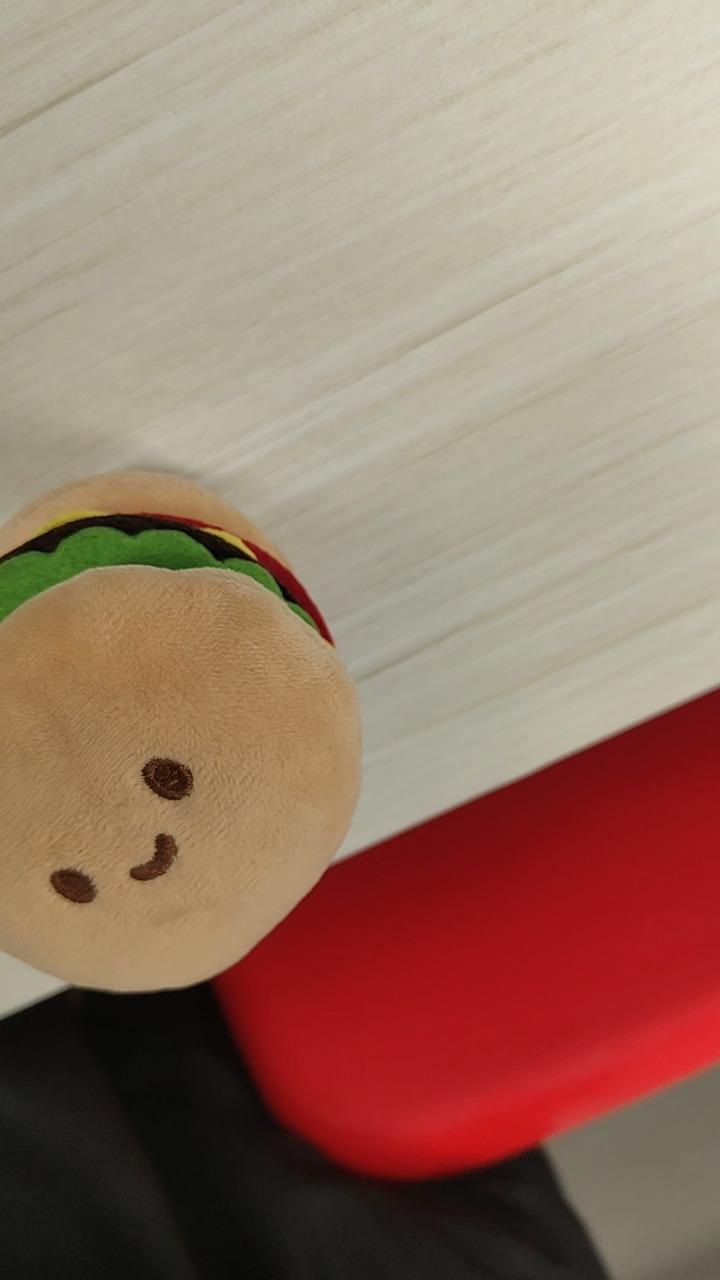hamburger: (0, 467, 363, 1000)
